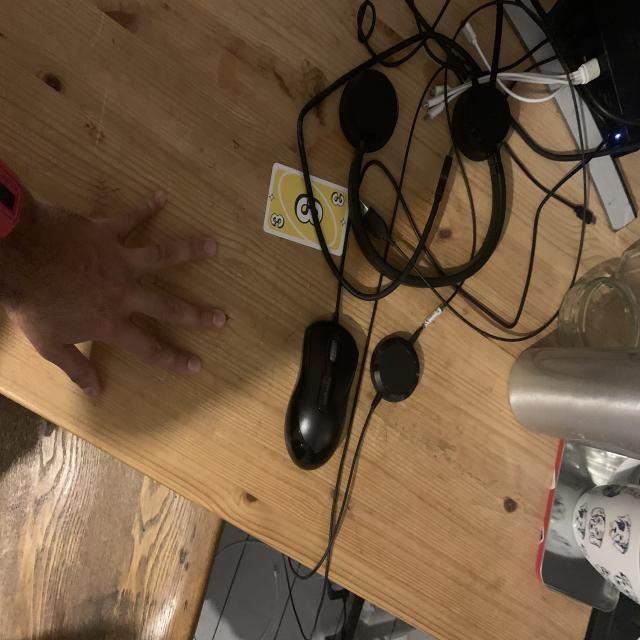lyellow-3: (268, 209, 290, 232)
